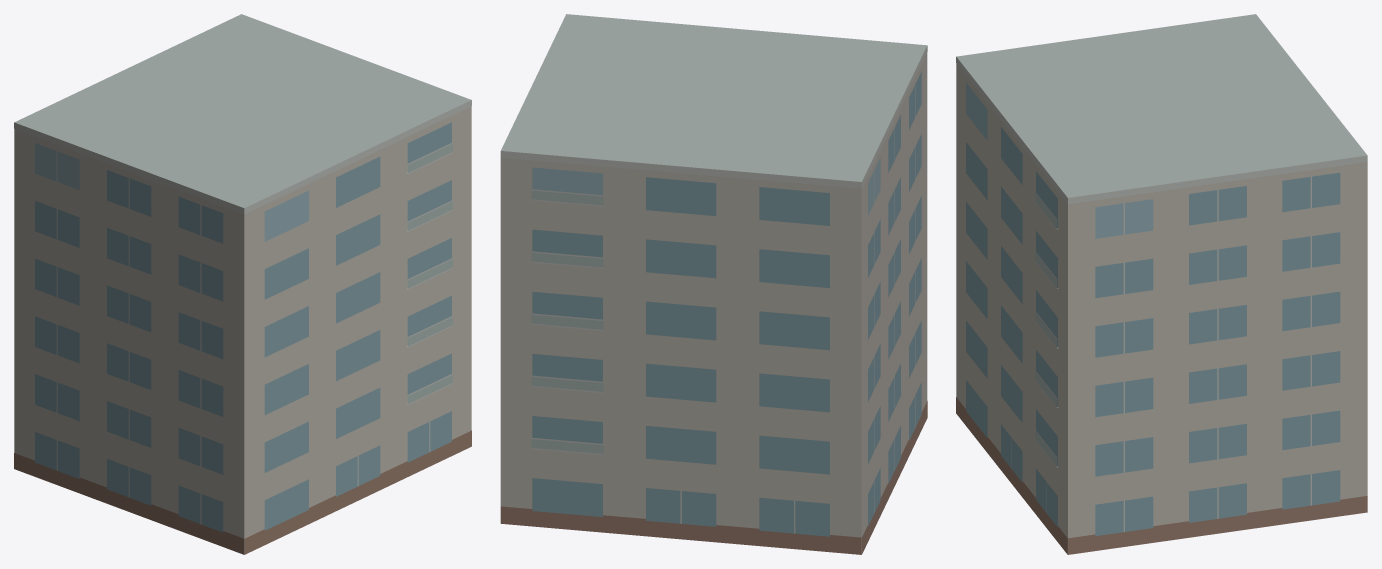
Rendered from survey-upis-32894082.glb.
3 renders of one model, left to right at view 1: azimuth 30°, elevation 25°; view 2: azimuth 150°, elevation 25°; view 3: azimuth 270°, elevation 25°, orthographic. The views are drawn at different scales.
Visible parts, largest first — view 1: survey-upis-32894082.tmp; view 2: survey-upis-32894082.tmp; view 3: survey-upis-32894082.tmp.
Boxes of the visible parts, x1=… form: survey-upis-32894082.tmp: x1=14, y1=14, x2=471, y2=554; survey-upis-32894082.tmp: x1=500, y1=14, x2=927, y2=554; survey-upis-32894082.tmp: x1=956, y1=14, x2=1367, y2=554.
Bounding box in the file's own units: 15.16 × 13.7 × 14.32.
